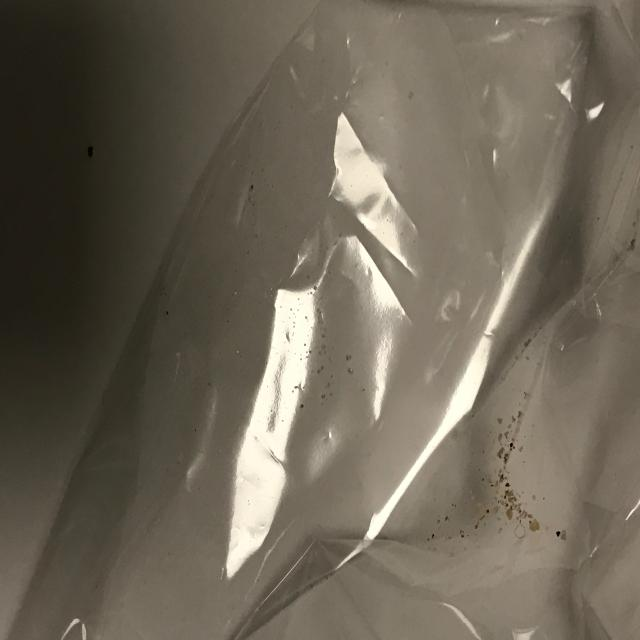trash: (3, 0, 638, 639)
